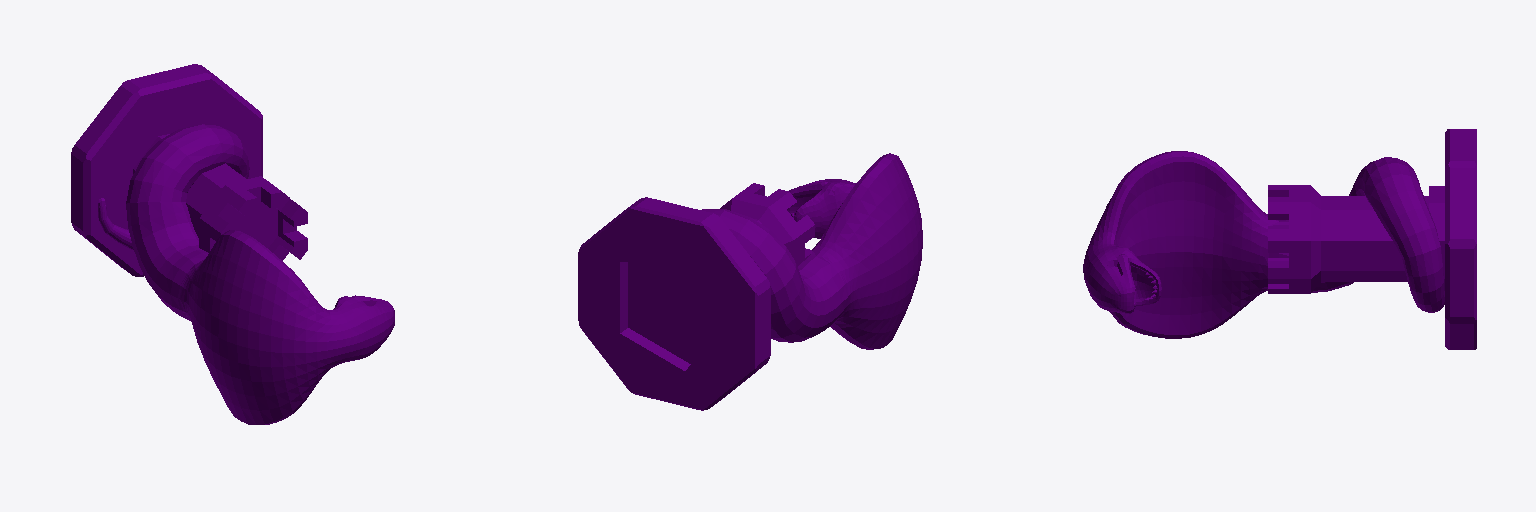
The model's file is Rook_Arbok.obj.
3 renders of one model, left to right at view 1: azimuth 30°, elevation 25°; view 2: azimuth 150°, elevation 25°; view 3: azimuth 270°, elevation 25°, orthographic.
Visible parts, largest first — view 1: Rook_Arbok; view 2: Rook_Arbok; view 3: Rook_Arbok.
Part boxes in pixels (bbox=[...]): Rook_Arbok: bbox=[71, 64, 394, 424]; Rook_Arbok: bbox=[578, 153, 922, 410]; Rook_Arbok: bbox=[1083, 129, 1476, 349].
Bounding box in the file's own units: 39.85 × 46.24 × 73.47.